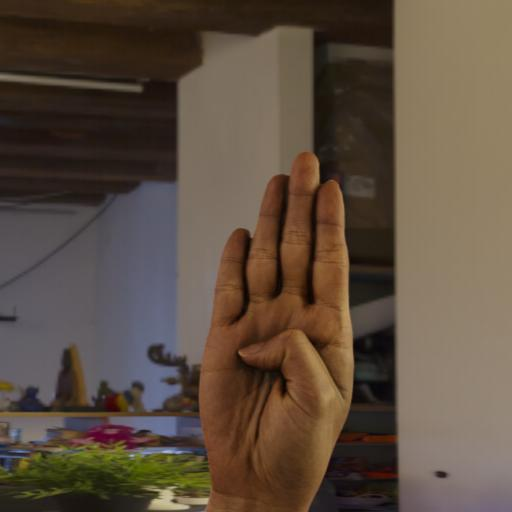B: (183, 136, 366, 503)
